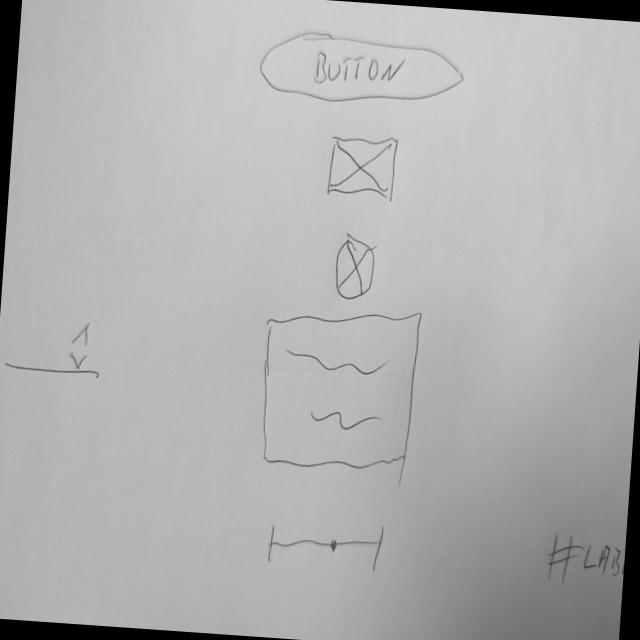button: (258, 26, 471, 113)
image: (324, 130, 401, 202), (332, 235, 378, 307)
label: (543, 530, 627, 594)
number-input: (5, 314, 106, 382)
slider: (263, 516, 390, 575)
textarea: (256, 300, 425, 481)
